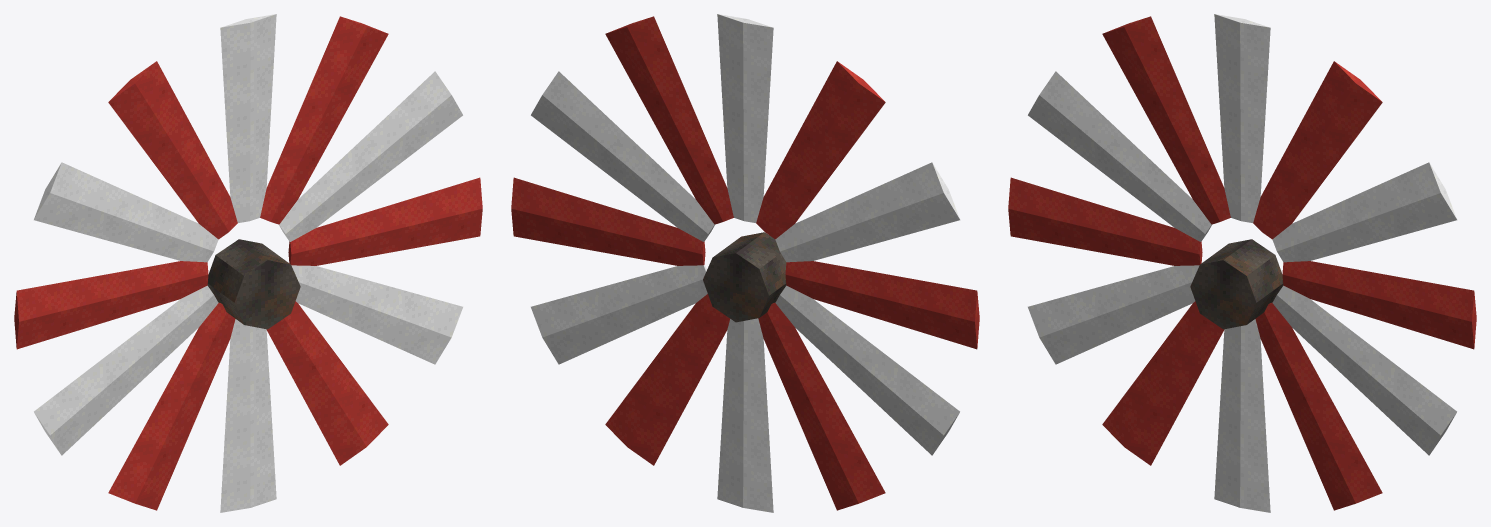
The model's file is aeromotor_aspas.obj.
3 renders of one model, left to right at view 1: azimuth 30°, elevation 25°; view 2: azimuth 150°, elevation 25°; view 3: azimuth 330°, elevation 25°, orthographic.
Visible parts, largest first — view 1: aeromotor_aspas; view 2: aeromotor_aspas; view 3: aeromotor_aspas.
Part boxes in pixels (box(x1,y1,x2,y2)): aeromotor_aspas: box(14, 14, 482, 512); aeromotor_aspas: box(511, 14, 979, 512); aeromotor_aspas: box(1008, 14, 1476, 512).
Bounding box in the file's own units: 2.8 × 2.8 × 0.3.
Materials: 3 (3 with a texture image).
